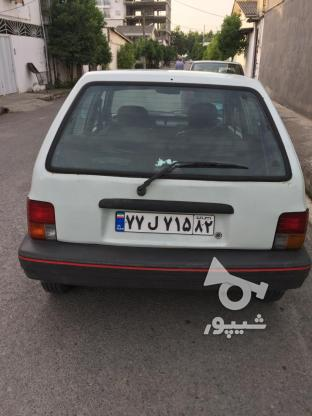car: (113, 212, 214, 233)
